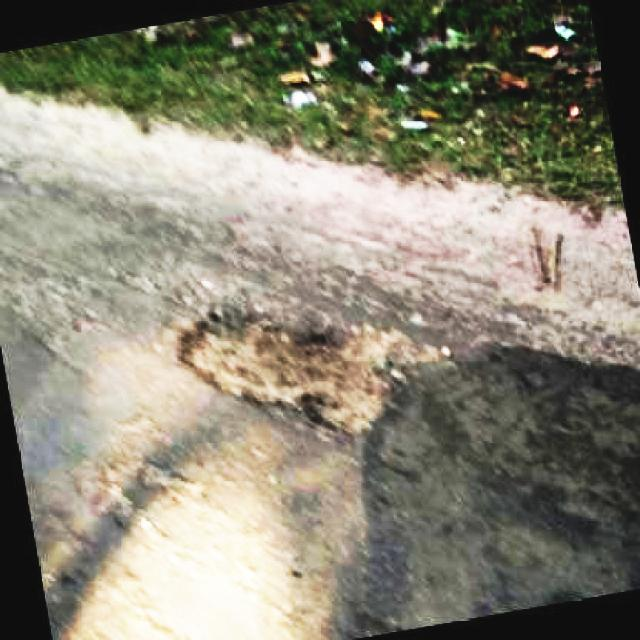pothole: (176, 303, 427, 439)
